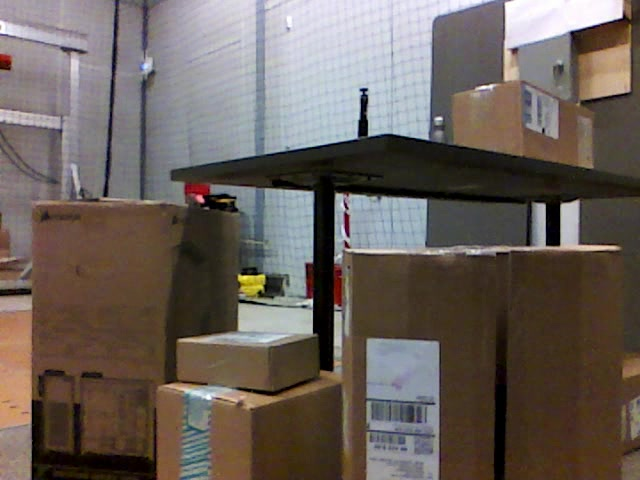box: (342, 248, 622, 480), (30, 200, 239, 479), (158, 383, 346, 480), (450, 79, 594, 165), (176, 329, 323, 392), (623, 355, 640, 458)
